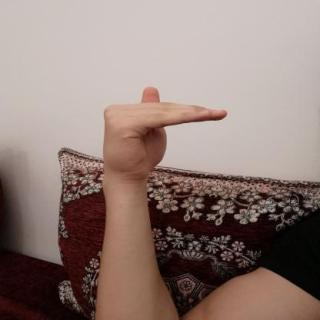KHAA: (87, 80, 240, 182)
